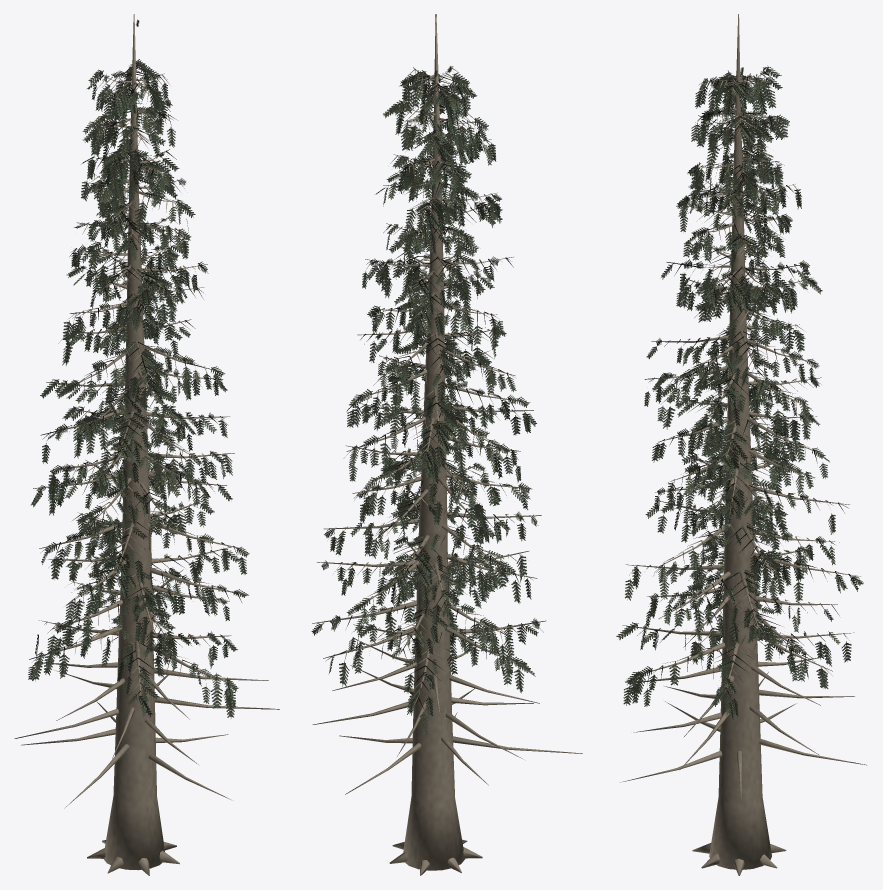
File: Sitka_Mature_01_Unpruned_LOD2.fbx
The picture shows the model from 3 angles, left to right: view 1: azimuth 30°, elevation 25°; view 2: azimuth 150°, elevation 25°; view 3: azimuth 270°, elevation 25°; orthographic projection.
Visible parts, largest first — view 1: Sitka_Mature_01_Unpruned_LOD2; view 2: Sitka_Mature_01_Unpruned_LOD2; view 3: Sitka_Mature_01_Unpruned_LOD2.
Boxes of the visible parts, x1,y1,x2,y2 form: Sitka_Mature_01_Unpruned_LOD2: [14, 14, 279, 875]; Sitka_Mature_01_Unpruned_LOD2: [311, 14, 582, 875]; Sitka_Mature_01_Unpruned_LOD2: [616, 14, 866, 875].
Size of the model in its own units: 781 by 2801 by 775.
Materials: 2 (2 with a texture image).
